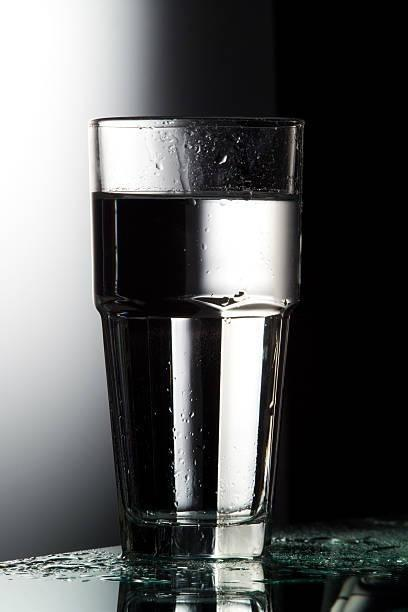glass-normal: (85, 112, 308, 566)
